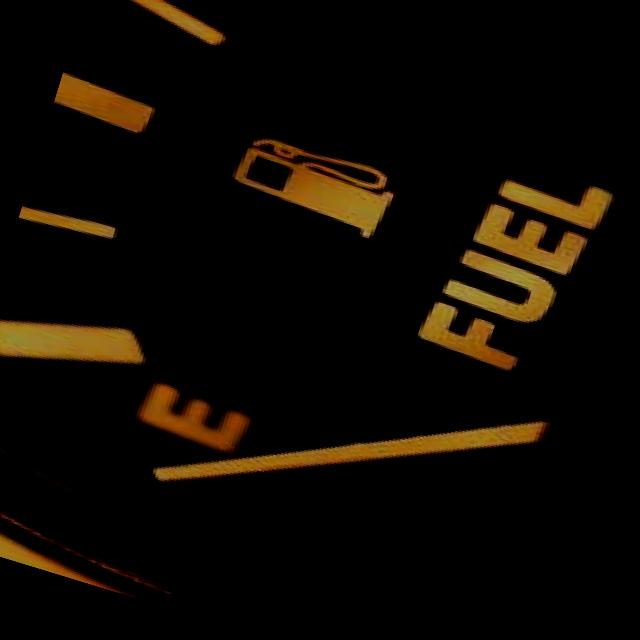kontrolka: (188, 101, 450, 272)
